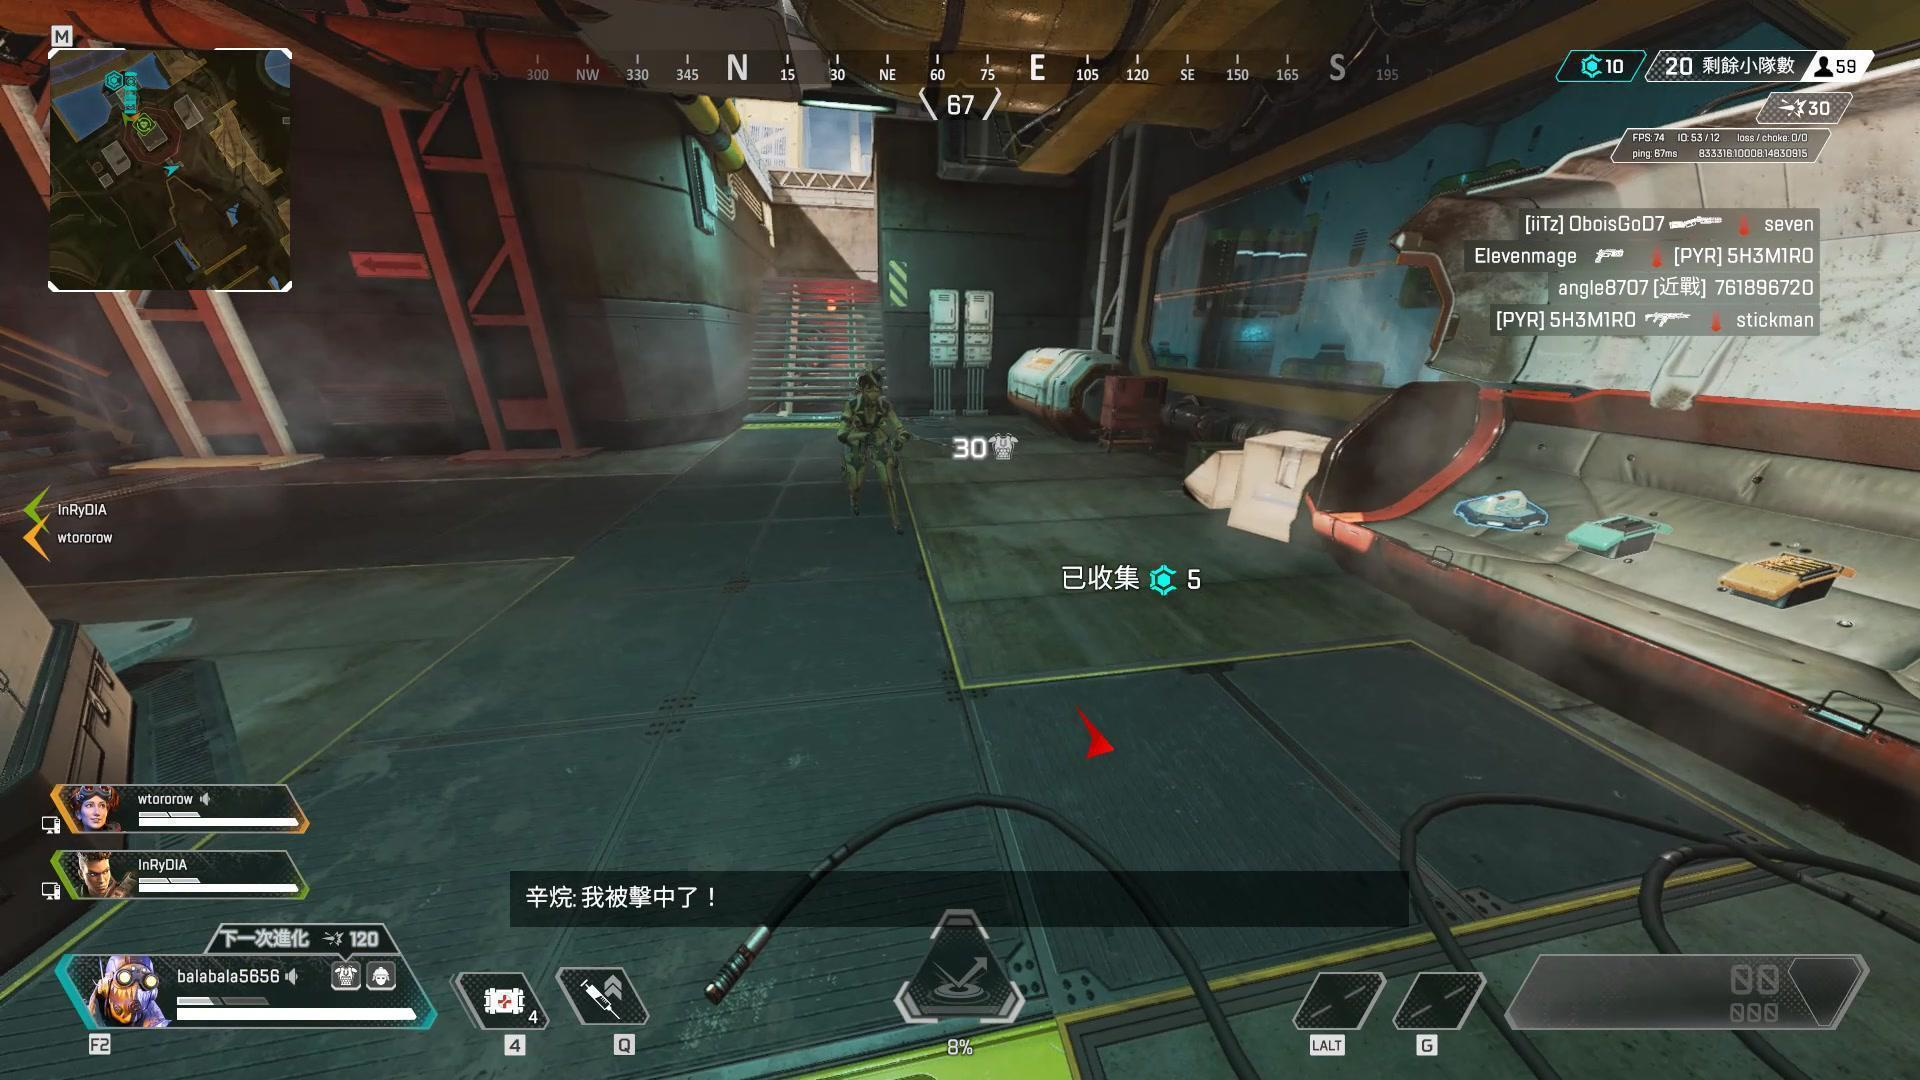avatar: (835, 367, 908, 540)
